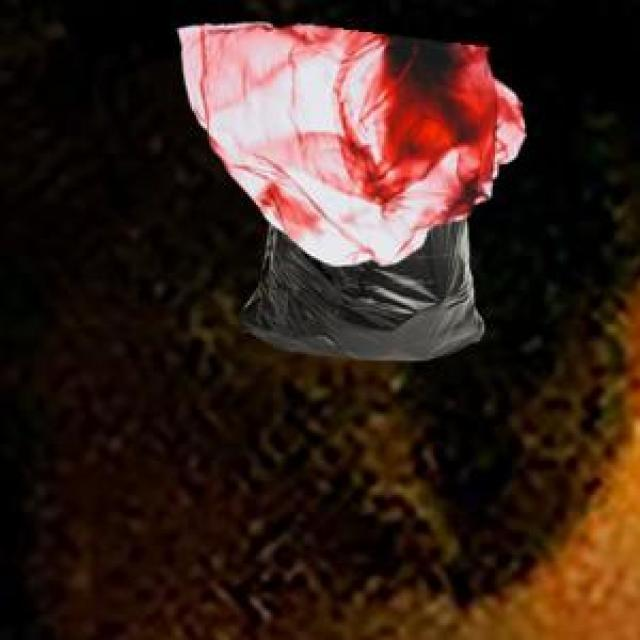miscellaneous trash: (235, 213, 480, 356)
